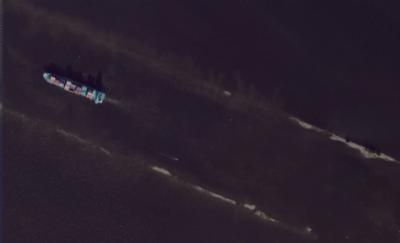Ships: (38, 67, 110, 106)
